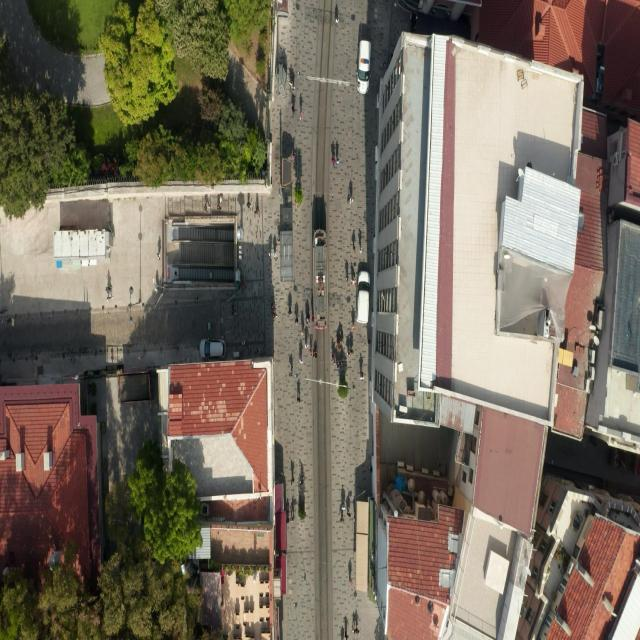Car: (199, 338, 226, 361)
Van: (356, 40, 372, 93), (356, 270, 371, 324)
